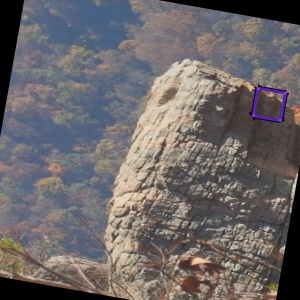square: (248, 83, 290, 125)
